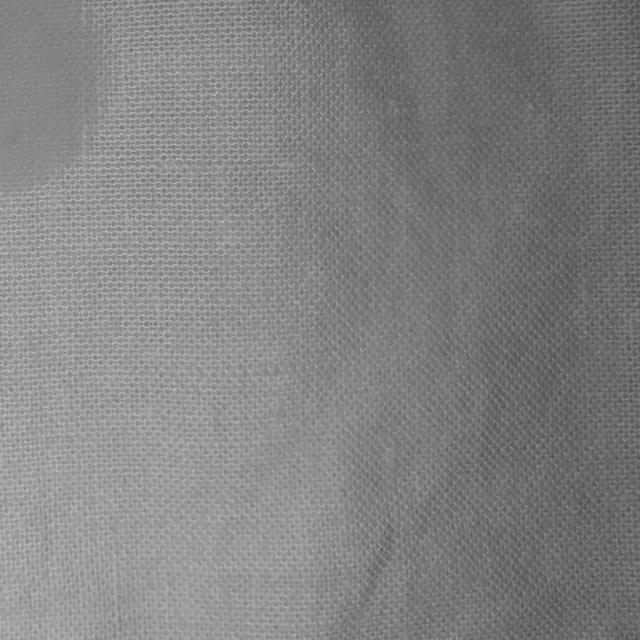Stain: (0, 0, 101, 196)
